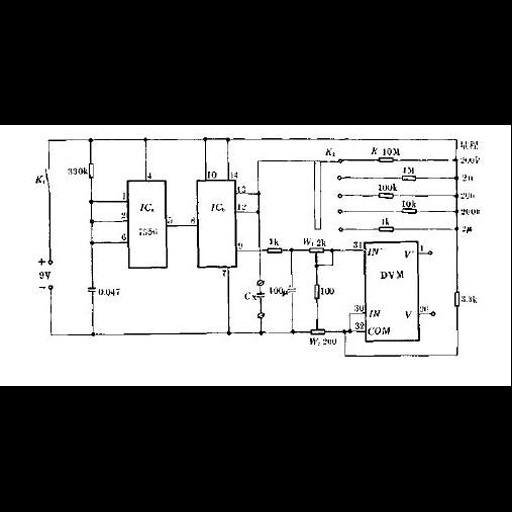capacitor: (84, 283, 97, 297), (255, 289, 266, 299)
firstpolarcapacitor: (286, 280, 299, 295)
firstresistance: (87, 159, 101, 183), (264, 245, 284, 256), (450, 289, 461, 309), (311, 281, 320, 304)
